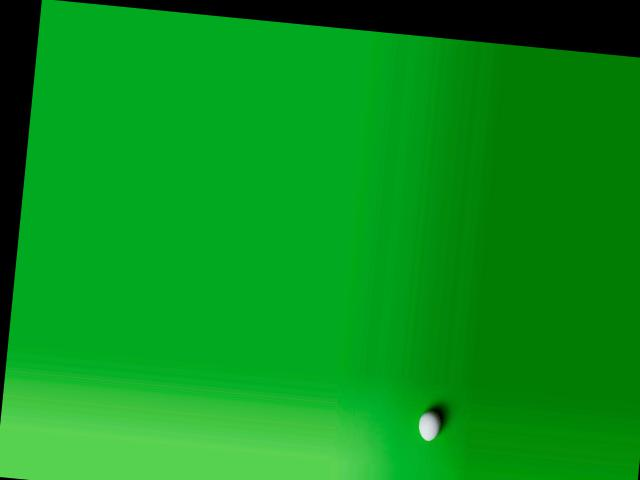egg: (417, 409, 441, 441)
